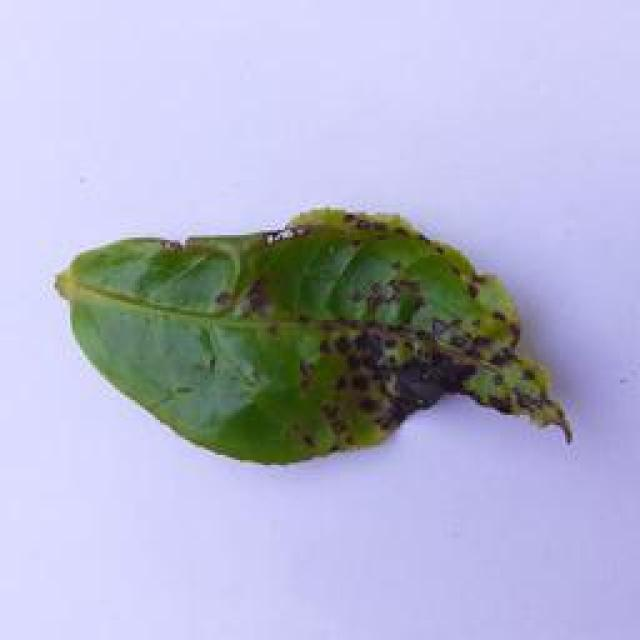Helopeltis: (41, 197, 579, 475)
